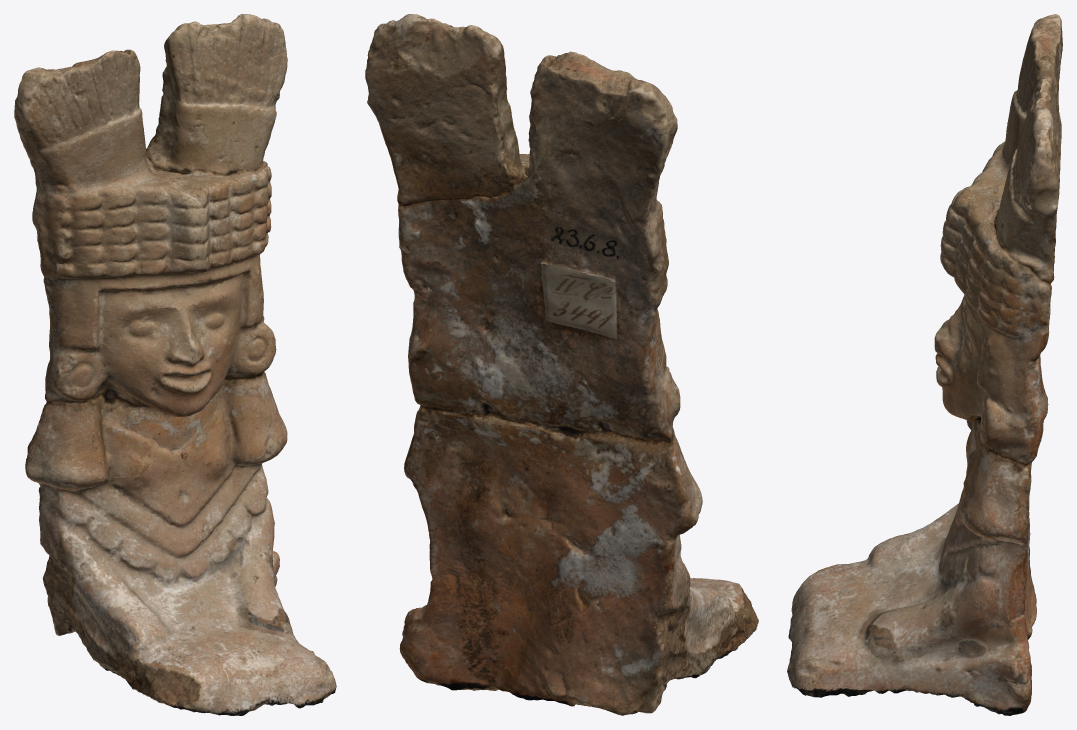
Rendered from xochiquetzal-transformed.glb.
3 renders of one model, left to right at view 1: azimuth 30°, elevation 25°; view 2: azimuth 150°, elevation 25°; view 3: azimuth 270°, elevation 25°, orthographic. The views are drawn at different scales.
Parts seen in each view (by area): view 1: 1923.06.0008 (Xochiquetzal); view 2: 1923.06.0008 (Xochiquetzal); view 3: 1923.06.0008 (Xochiquetzal).
Boxes of the visible parts, x1,y1,x2,y2 form: 1923.06.0008 (Xochiquetzal): (14,14,336,715); 1923.06.0008 (Xochiquetzal): (365,14,758,715); 1923.06.0008 (Xochiquetzal): (787,14,1062,715).
Bounding box in the file's own units: 0.0701 × 0.1486 × 0.0605.
1 material, 1 textured.
